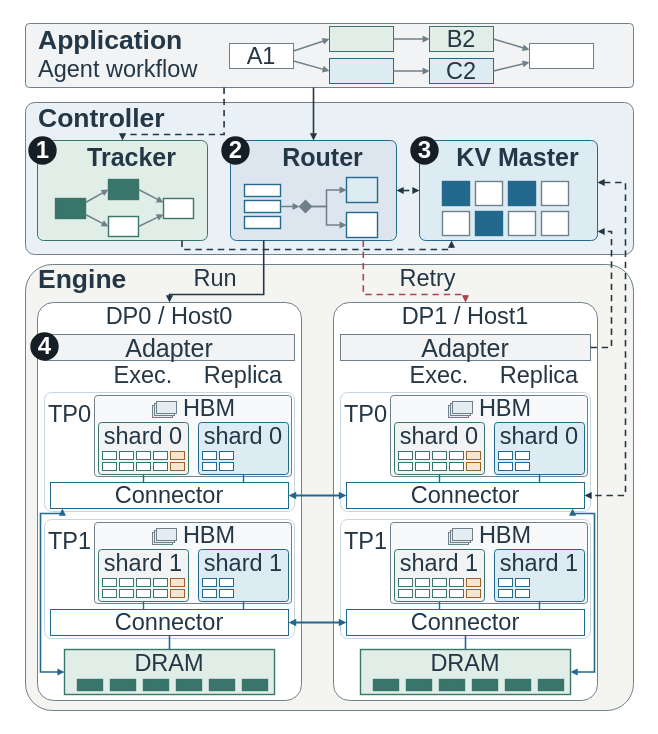
The diagram is 658 pixels wide and 734 high, and some of its shapes have lost their labels. Here are the shapes that lost their labels. From the top down, the centre of each, then its label:
the point at 361,39: B1
the point at 561,55: D1
the point at 361,71: C1
